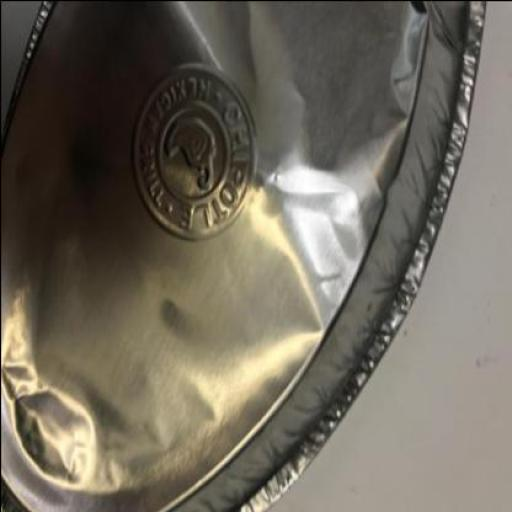metal: (0, 1, 489, 511)
